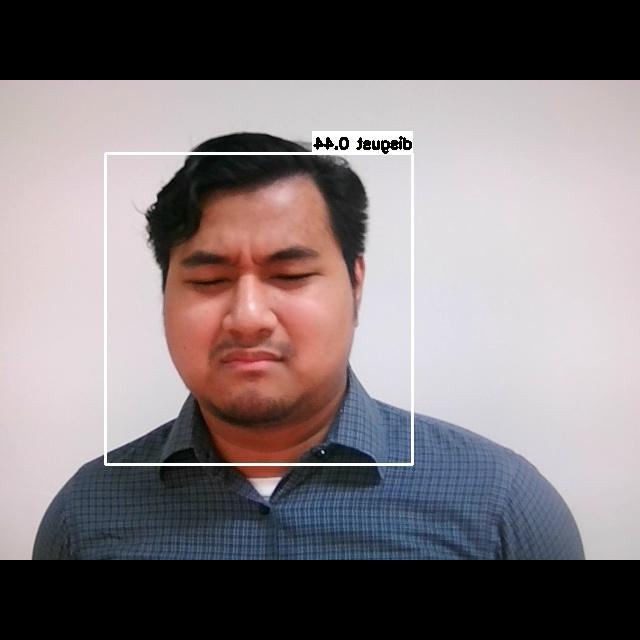Disgust: (159, 228, 356, 394)
